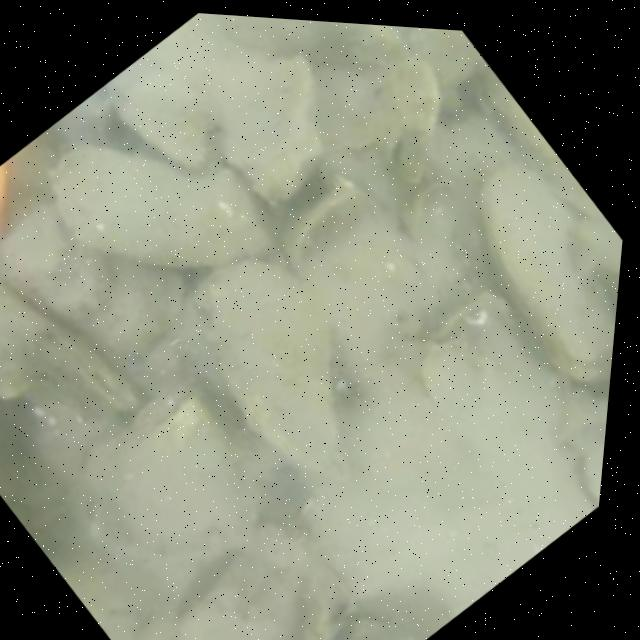Oyster-Indeterminate: (210, 263, 351, 476), (49, 143, 276, 266), (6, 211, 174, 361), (484, 167, 607, 363), (164, 513, 330, 640), (105, 13, 225, 165)
